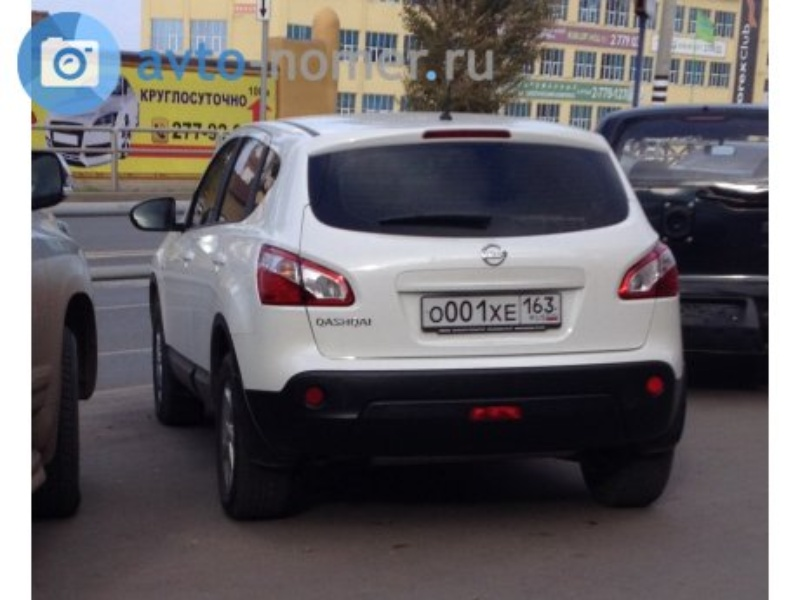car: (130, 111, 685, 518), (595, 106, 769, 333), (32, 150, 99, 519), (45, 76, 142, 168)
plate: (424, 294, 560, 325)
